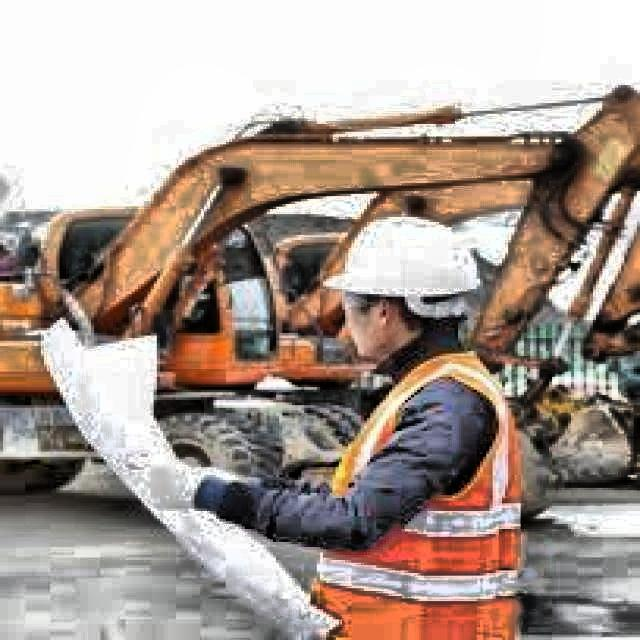bull_dozer/loader/grader: (0, 76, 640, 521)
person: (129, 213, 526, 640)
